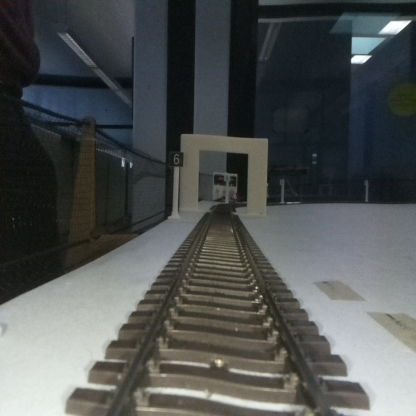black-info-6: (169, 152, 183, 218)
